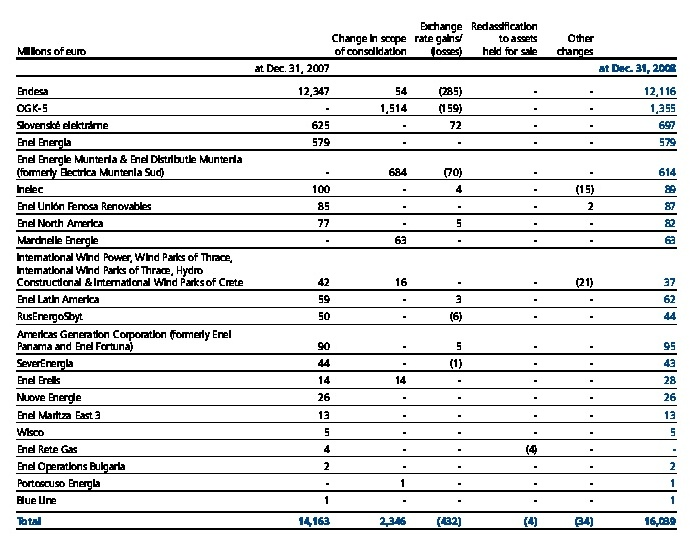table: (0, 0, 692, 545)
